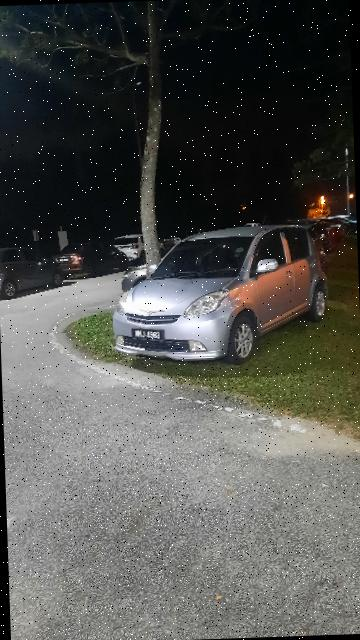License_Plate: (129, 326, 168, 346)
car: (111, 217, 341, 386)
